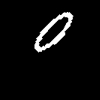chain: (35, 12, 72, 51)
